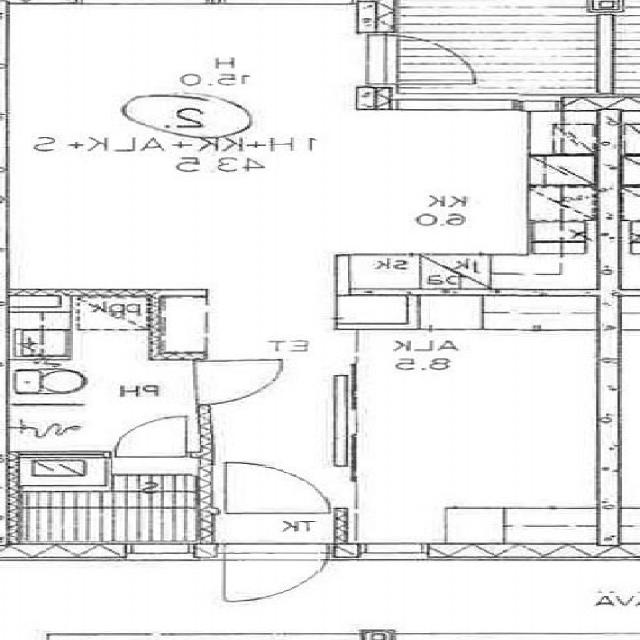door: (358, 36, 498, 84), (226, 545, 328, 610), (226, 458, 329, 516), (201, 362, 300, 405), (116, 418, 188, 458)
